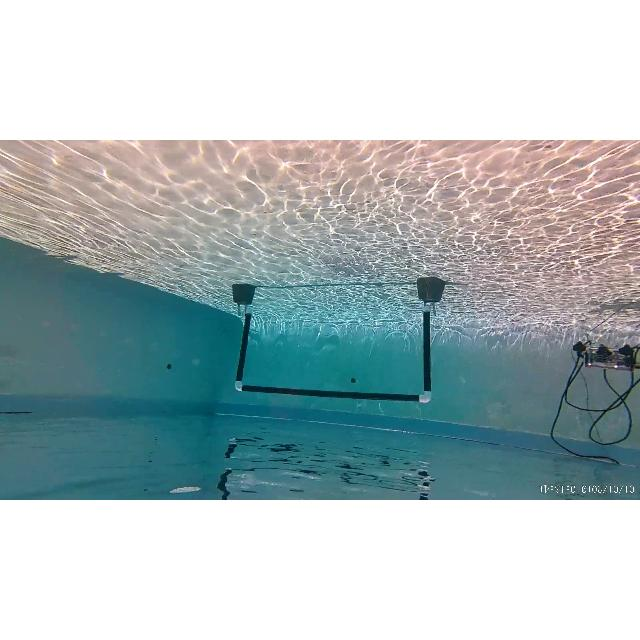prequal gate: (236, 306, 432, 402)
prequal gate leg l: (418, 306, 436, 406)
prequal gate leg r: (235, 305, 251, 391)
